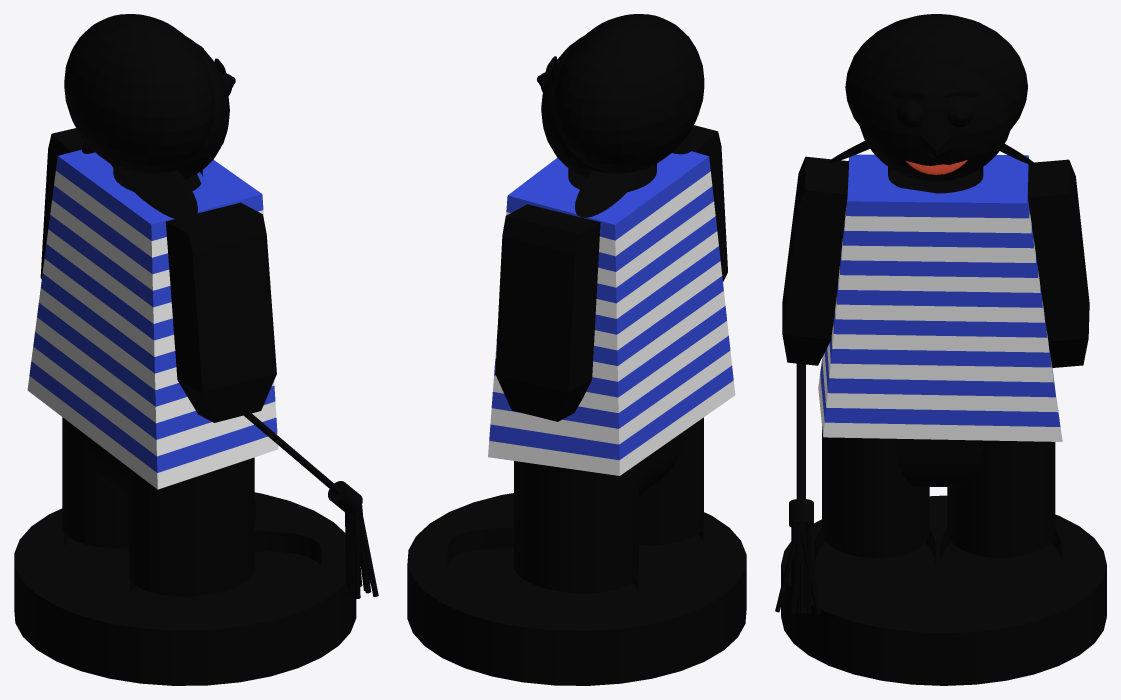
Rendered from Матрос.fbx.
3 views of the same model, side by side, from view 1: azimuth 30°, elevation 25°; view 2: azimuth 150°, elevation 25°; view 3: azimuth 270°, elevation 25° (orthographic). The views are drawn at different scales.
Visible parts, largest first — view 1: Cylinder.019; view 2: Cylinder.019; view 3: Cylinder.019.
Boxes of the visible parts, x1,y1,x2,y2 form: Cylinder.019: [14, 14, 378, 685]; Cylinder.019: [407, 14, 746, 685]; Cylinder.019: [775, 14, 1106, 685].
Size of the model in its own units: 800 by 1559 by 815.
